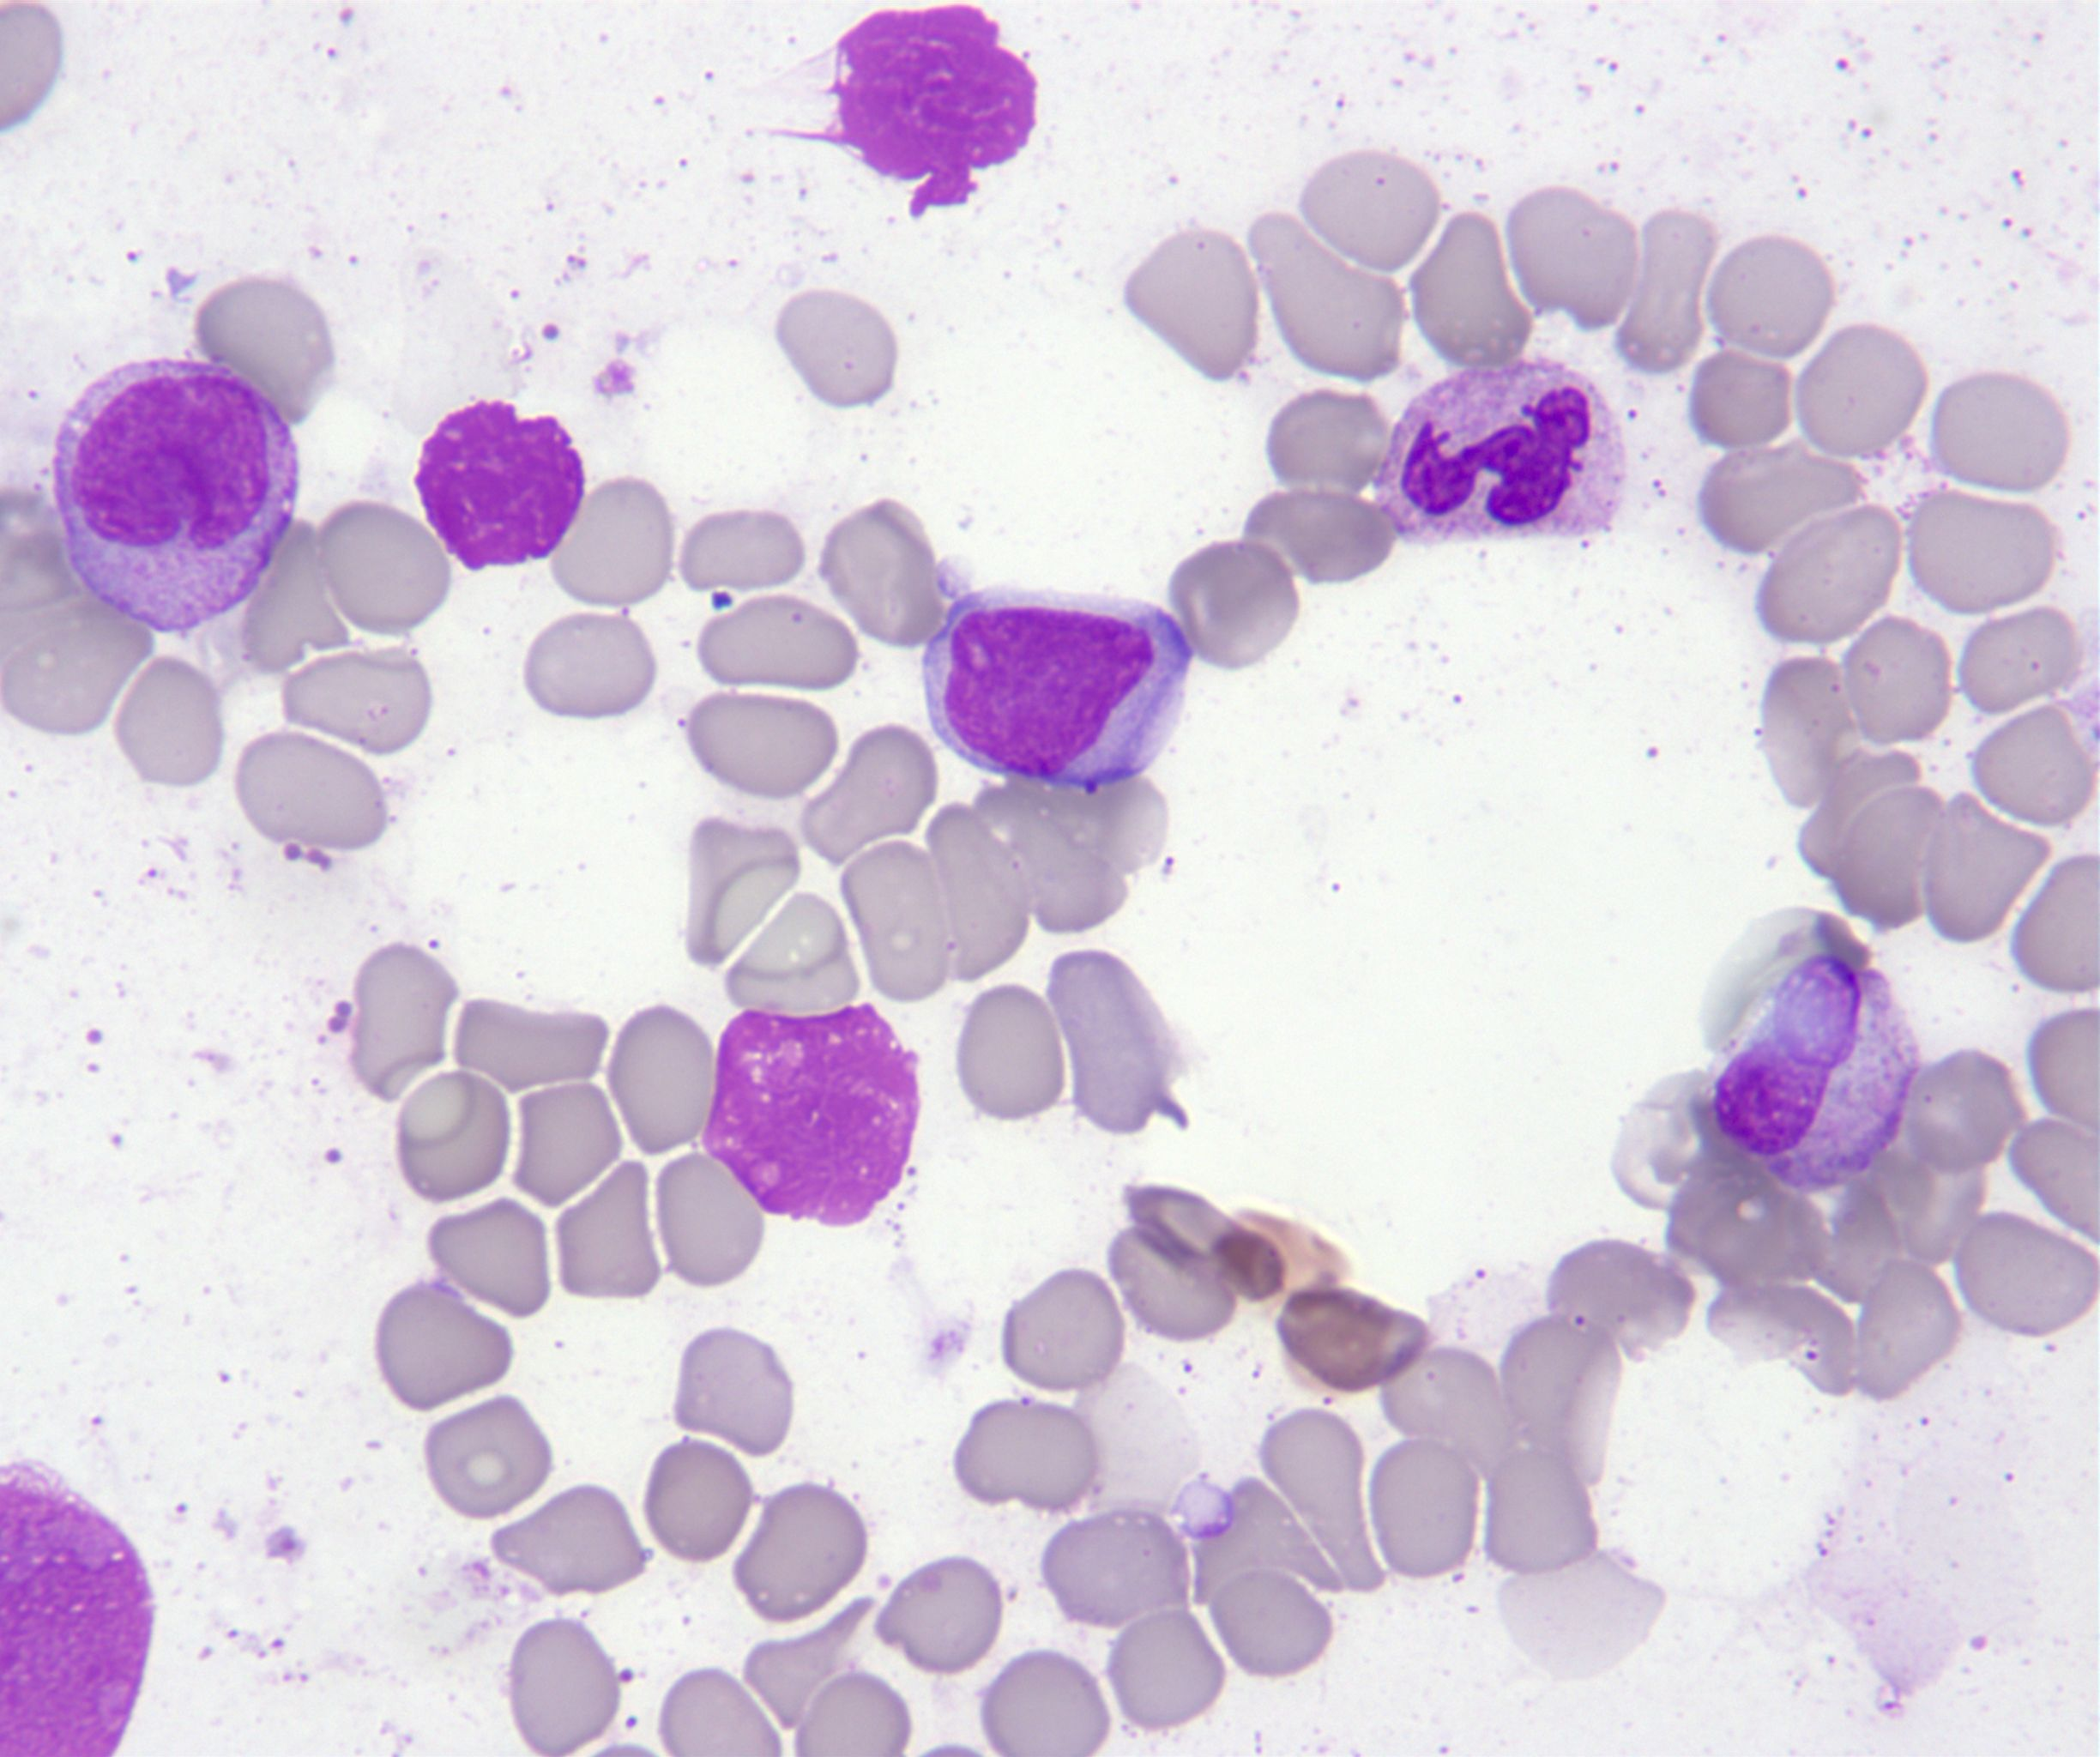32: (923, 586, 1191, 787)
42: (54, 361, 298, 632)
5: (1704, 958, 1919, 1197)
6: (1376, 361, 1627, 543)
x: (703, 1002, 921, 1227), (0, 1459, 155, 1757), (828, 5, 1038, 218), (413, 400, 584, 571)
